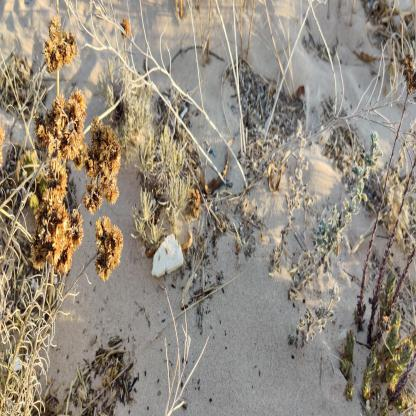kopuk: (152, 235, 185, 279)
